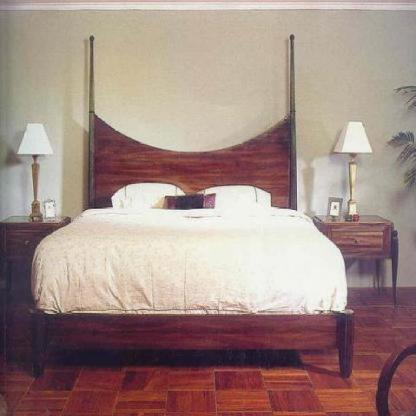Bed: (31, 114, 362, 391)
